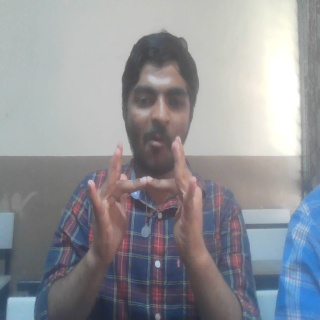Internet: (83, 135, 209, 263)
